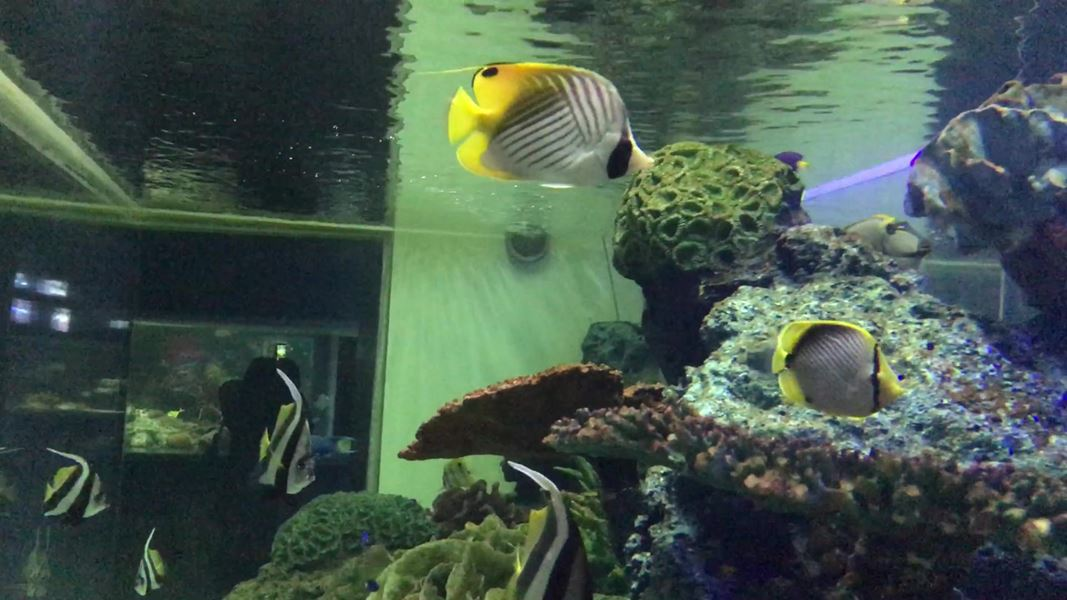Black-backed butterflyfish: (750, 309, 916, 428)
